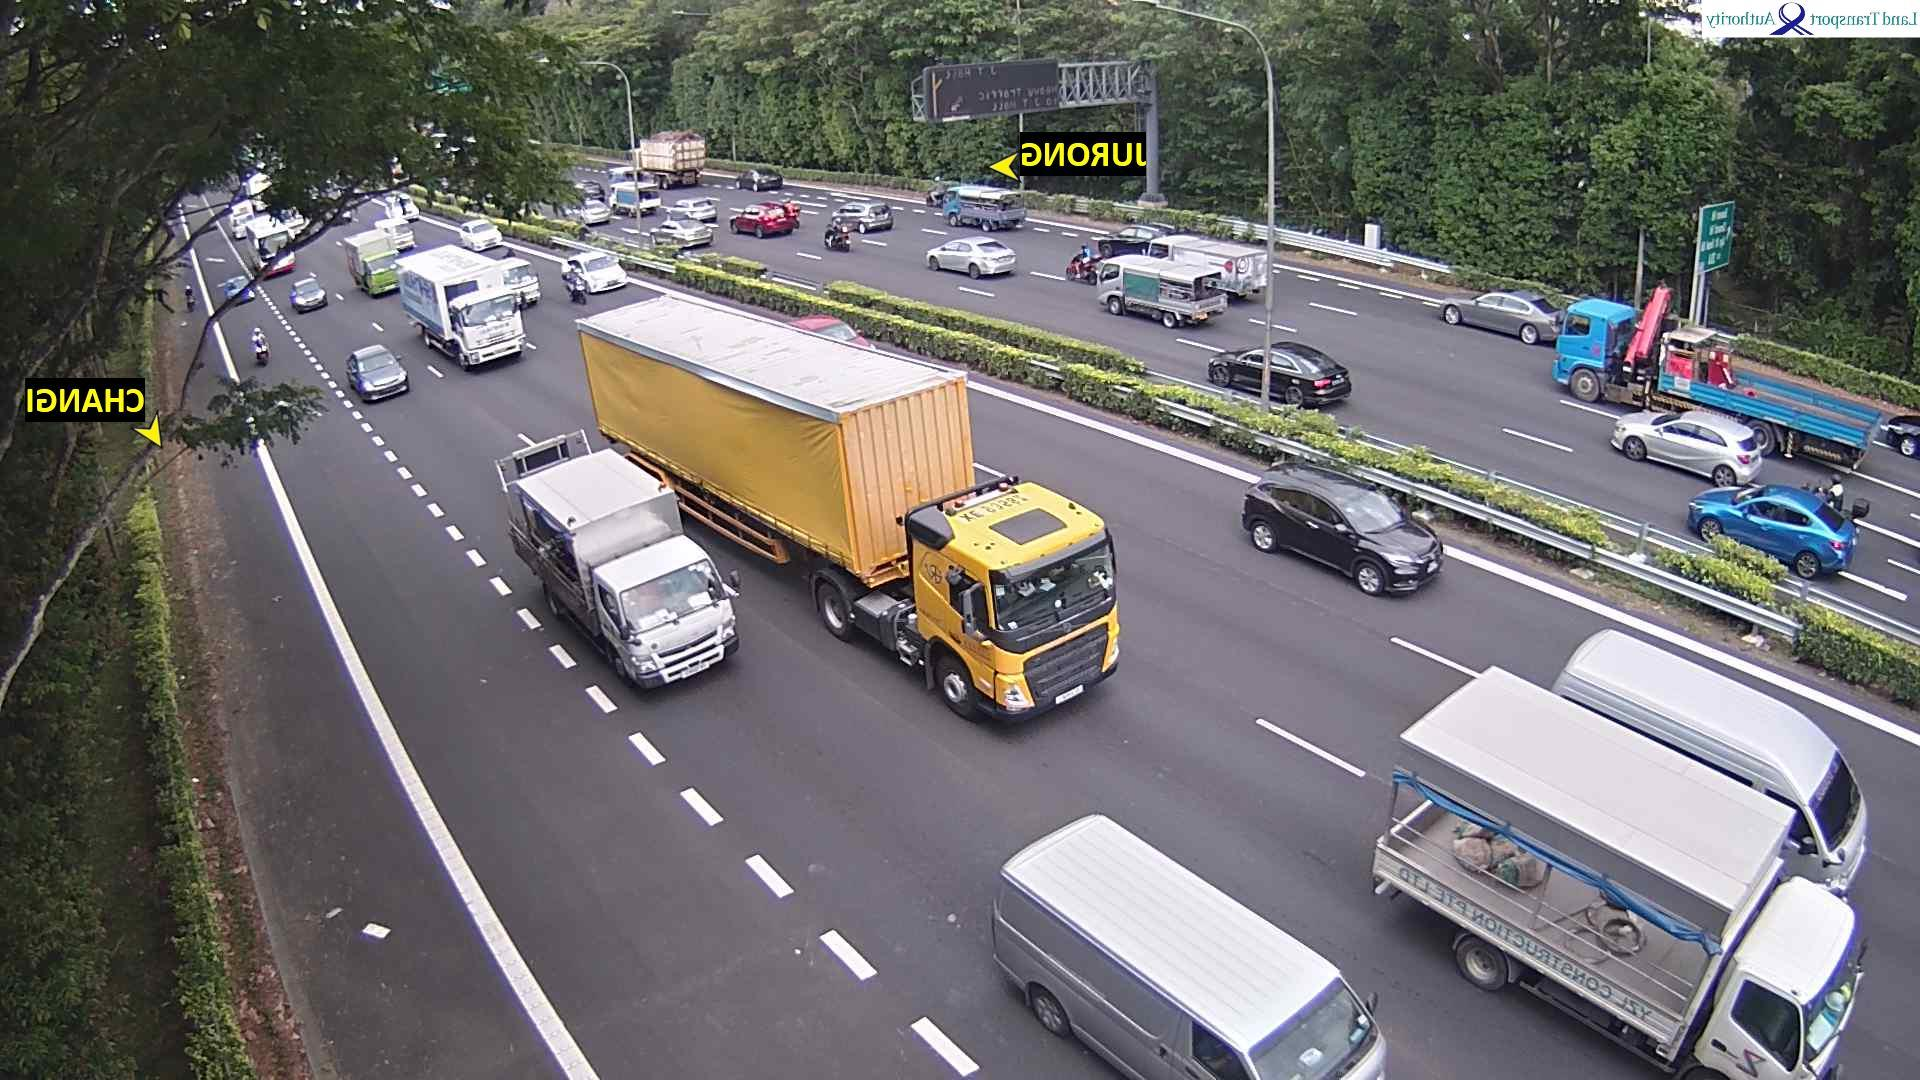incoming: (938, 520, 1131, 741), (1734, 913, 1886, 1080), (609, 543, 741, 704), (1232, 969, 1395, 1080), (1331, 479, 1451, 615), (1792, 745, 1875, 902), (448, 287, 530, 375), (348, 347, 411, 406), (251, 228, 298, 281), (574, 253, 629, 295), (500, 260, 545, 311), (359, 248, 402, 301), (289, 277, 328, 315), (465, 218, 505, 252), (381, 219, 418, 253), (249, 334, 273, 371), (570, 277, 589, 306)
